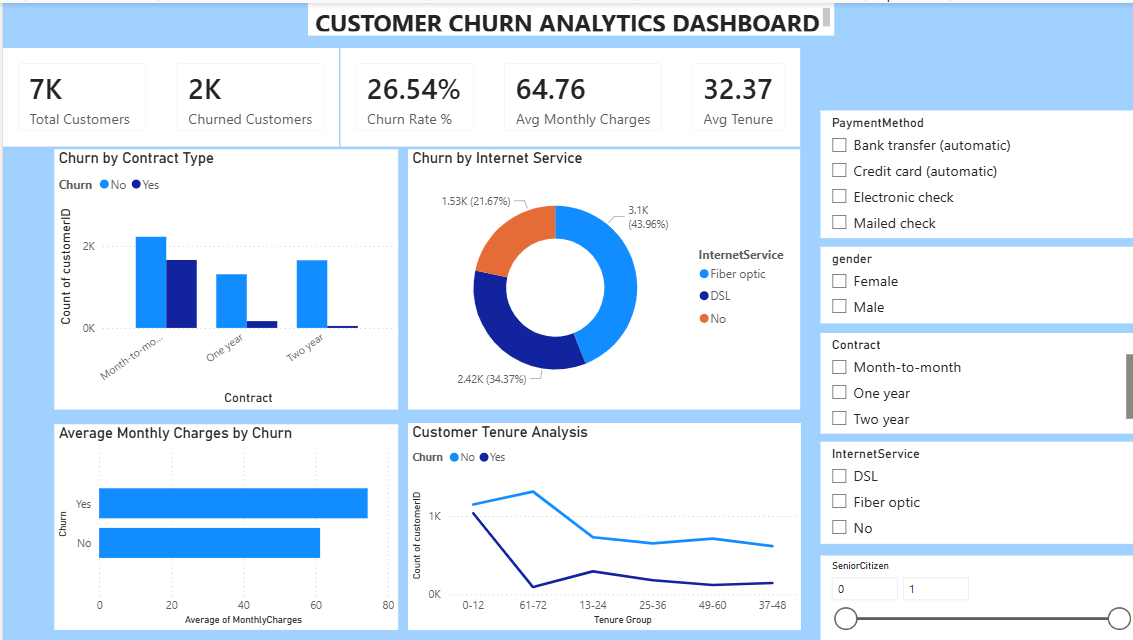

What the dashboard file says about the page in this screenshot:
{"tool":"powerbi","page":{"name":"Customer Churn Dashboard","canvas":[1280,720],"ordinal":0},"visuals":[{"type":"cardVisual","fields":{"Data":["churn_dataset.Total Customers"]},"box":[0,50.8,179.8,111.1],"z":0},{"type":"cardVisual","fields":{"Data":["churn_dataset.Churned Customers"]},"box":[179.8,50.8,200.3,111.1],"z":1000},{"type":"cardVisual","fields":{"Data":["churn_dataset.Churn Rate %"]},"box":[380.1,50.8,168.8,111.1],"z":2000},{"type":"cardVisual","fields":{"Data":["churn_dataset.Avg Monthly Charges"]},"box":[548.9,50.8,212.7,111.1],"z":3000},{"type":"cardVisual","fields":{"Data":["churn_dataset.Avg Tenure"]},"box":[760,50.8,139.6,111.4],"z":4000},{"type":"clusteredColumnChart","title":"Churn by Contract Type","fields":{"Category":["churn_dataset.Contract"],"Series":["churn_dataset.Churn"],"Y":["CountNonNull(churn_dataset.customerID)"]},"box":[57.8,165,387.8,293.3],"z":5000},{"type":"donutChart","title":"Churn by Internet Service","fields":{"Category":["churn_dataset.InternetService"],"Y":["CountNonNull(churn_dataset.customerID)"]},"box":[456.8,165,442.7,293.3],"z":6000},{"type":"clusteredBarChart","title":"Average Monthly Charges by Churn","fields":{"Category":["churn_dataset.Churn"],"Y":["Avg(churn_dataset.MonthlyCharges)"]},"box":[57.6,474.8,388.3,231.9],"z":7000},{"type":"lineChart","title":"Customer Tenure Analysis","fields":{"Category":["churn_dataset.Tenure Group"],"Y":["CountNonNull(churn_dataset.customerID)"],"Series":["churn_dataset.Churn"]},"box":[456.9,473.4,443.2,233.3],"z":8000},{"type":"slicer","fields":{"Values":["churn_dataset.gender"]},"box":[921.8,274.4,358.1,86.4],"z":9000},{"type":"slicer","fields":{"Values":["churn_dataset.Contract"]},"box":[922.1,371.9,358.1,113.9],"z":10000},{"type":"slicer","fields":{"Values":["churn_dataset.InternetService"]},"box":[922.1,495.4,358.1,115.3],"z":11000},{"type":"slicer","fields":{"Values":["churn_dataset.PaymentMethod"]},"box":[921.8,120.8,358.1,144.1],"z":12000},{"type":"slicer","fields":{"Values":["churn_dataset.SeniorCitizen"]},"box":[922.2,623.8,358.1,96.6],"z":13000},{"type":"textbox","box":[344,0,593.6,36.7],"z":13001}]}

Visuals, with their boxes in screenshot pixels (x1, y1, x2, y2), scaled from the page's 1280x720 canvas onto the 1133x640 screenshot:
cardVisual - churn_dataset.Total Customers: [0,45,159,144]
cardVisual - churn_dataset.Churned Customers: [159,45,336,144]
cardVisual - churn_dataset.Churn Rate %: [336,45,486,144]
cardVisual - churn_dataset.Avg Monthly Charges: [486,45,674,144]
cardVisual - churn_dataset.Avg Tenure: [673,45,796,144]
"Churn by Contract Type" clusteredColumnChart: [51,147,394,407]
"Churn by Internet Service" donutChart: [404,147,796,407]
"Average Monthly Charges by Churn" clusteredBarChart: [51,422,395,628]
"Customer Tenure Analysis" lineChart: [404,421,797,628]
slicer - churn_dataset.gender: [816,244,1132,321]
slicer - churn_dataset.Contract: [816,331,1132,432]
slicer - churn_dataset.InternetService: [816,440,1132,543]
slicer - churn_dataset.PaymentMethod: [816,107,1132,235]
slicer - churn_dataset.SeniorCitizen: [816,554,1132,639]
textbox: [304,0,830,33]
